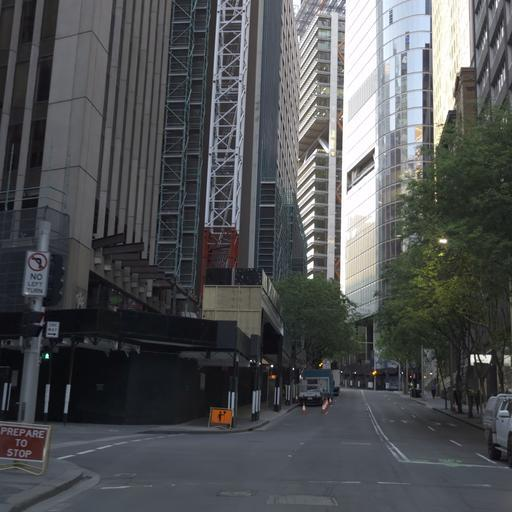Street light: (436, 232, 509, 392), (408, 233, 447, 395)
